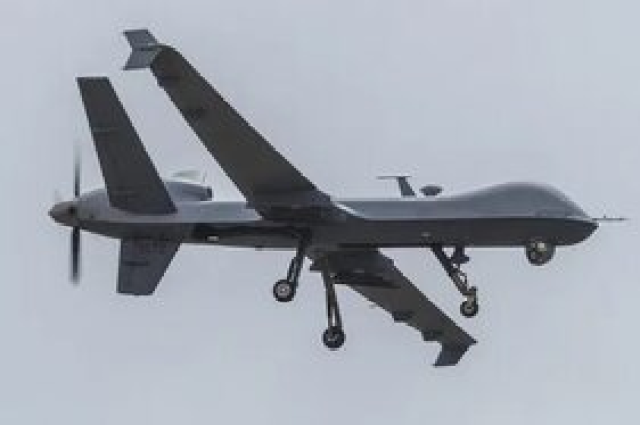military drone: (48, 28, 630, 366)
